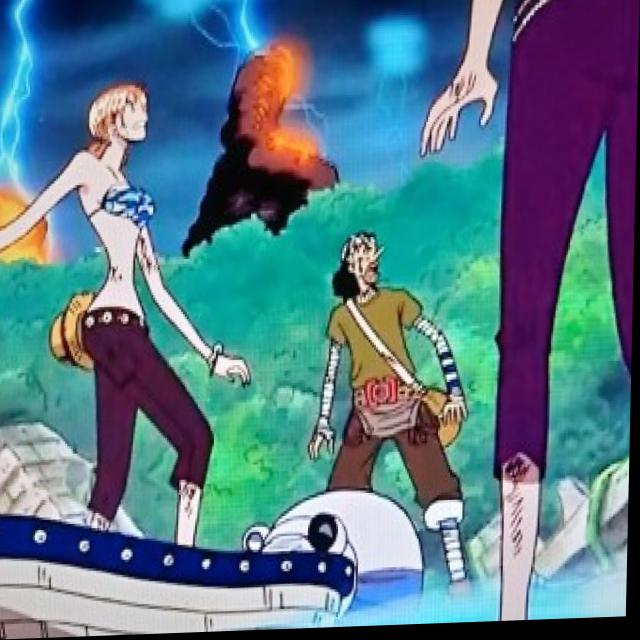Nami: (81, 72, 162, 165)
Usopp: (333, 221, 395, 317)
